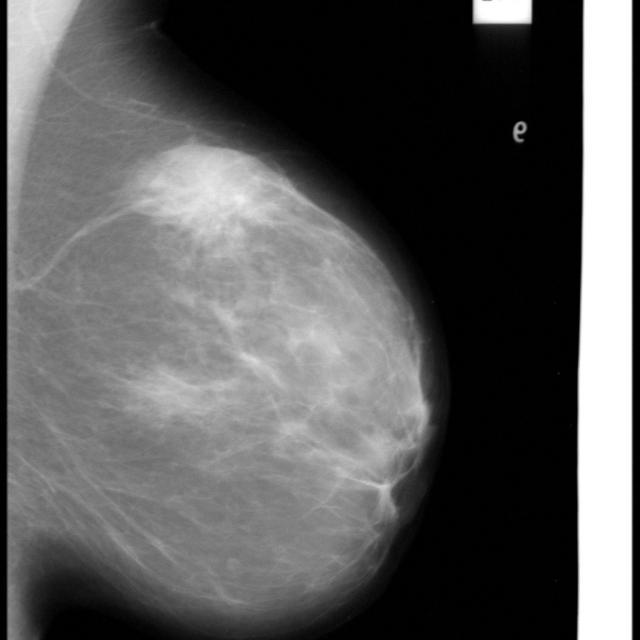ARCH: (181, 188, 258, 266)
